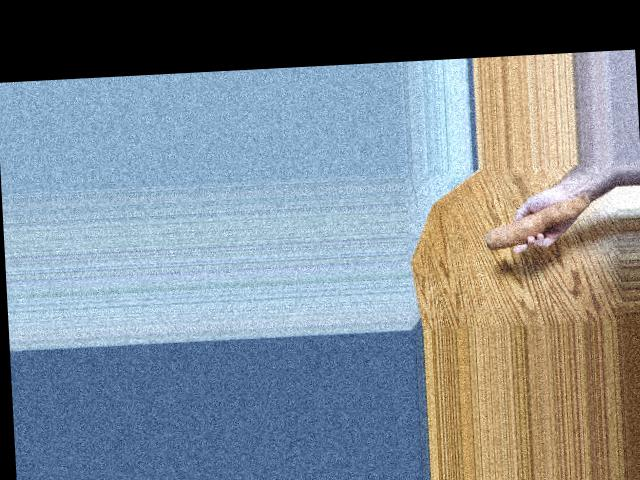sweet_potato: (481, 191, 593, 252)
